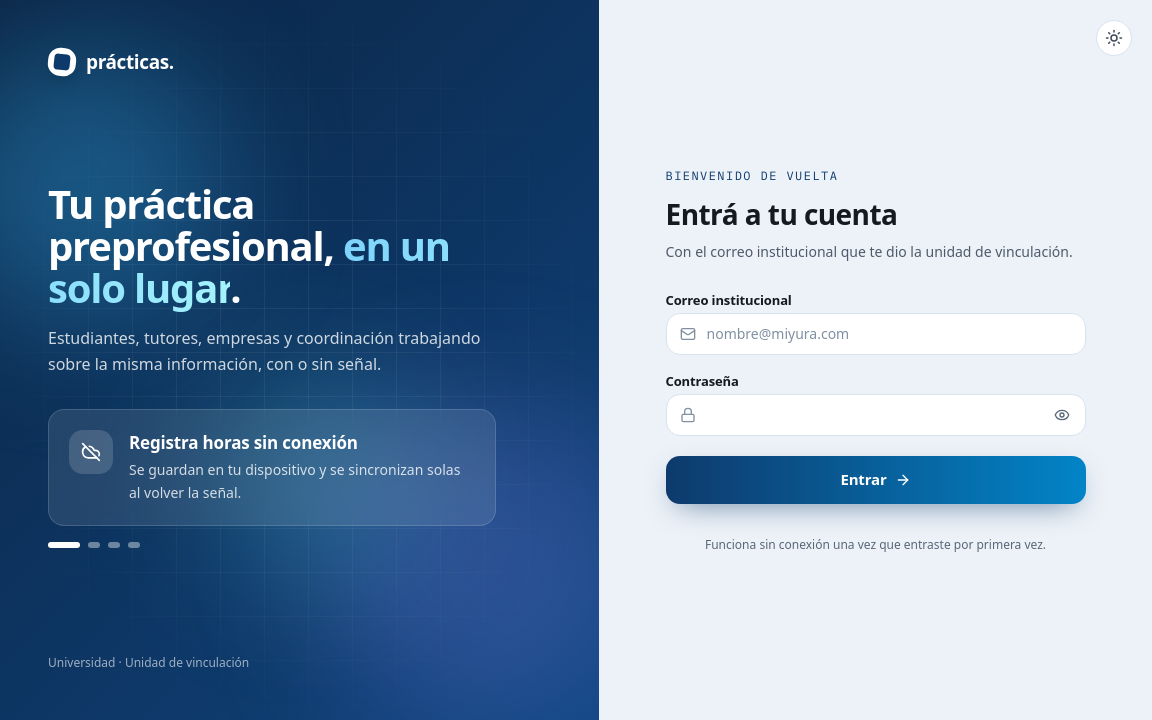
Test: LoginPage › lets you pick a feature of the carousel
Click the button named "Ver: Rachas e insignias".
click(134, 545)  # box left=128, top=542, right=140, bottom=548
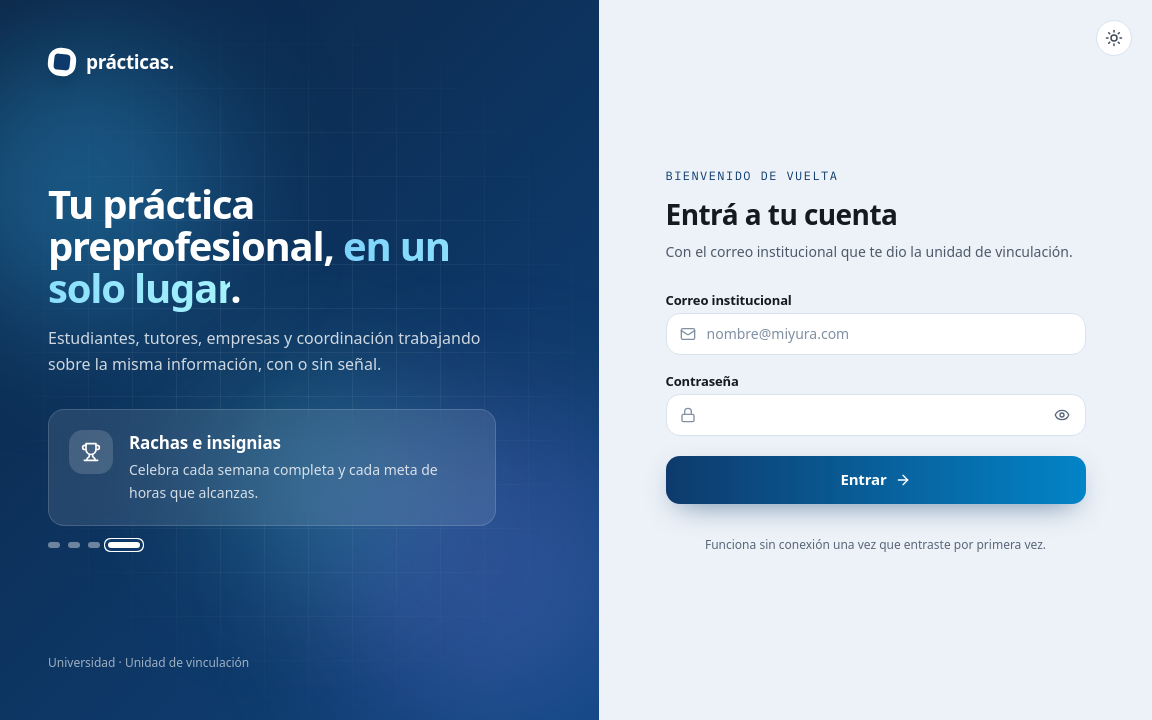
Now the text "Rachas e insignias" is shown, box left=129, top=431, right=281, bottom=454
